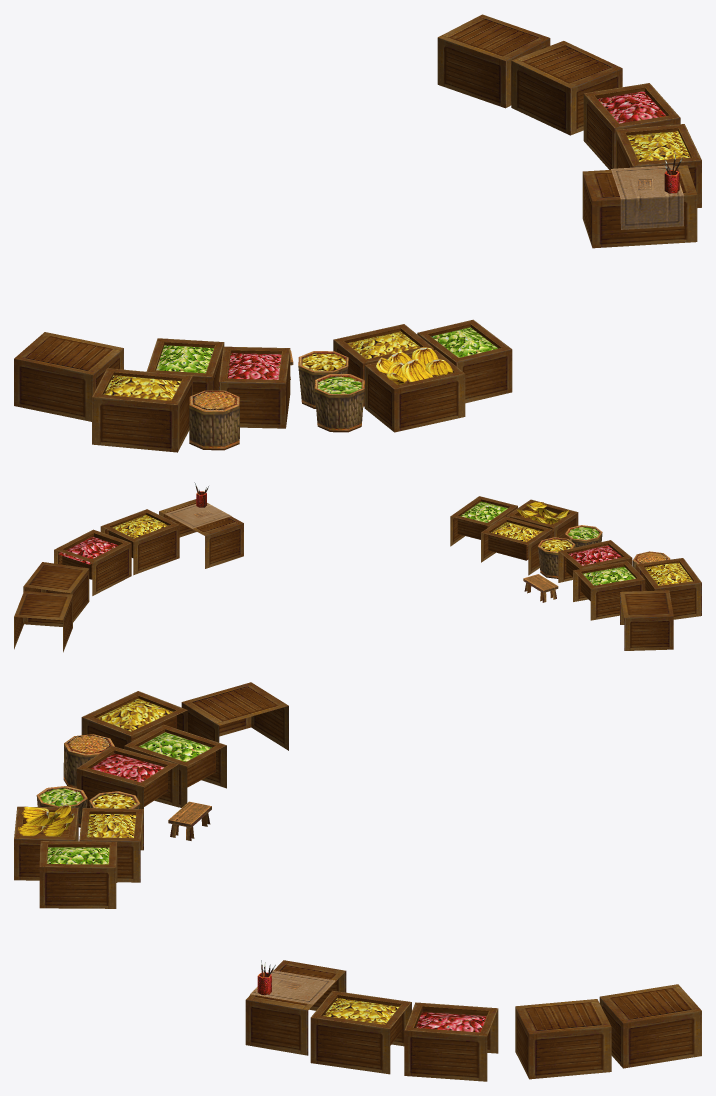
File: xsz_shuiguotan_1.FBX
The picture shows the model from 3 angles, top to bottom: view 1: azimuth 30°, elevation 25°; view 2: azimuth 150°, elevation 25°; view 3: azimuth 270°, elevation 25°; orthographic projection. The views are drawn at different scales.
Visible parts, largest first — view 1: xsz_shuiguotan_1; view 2: xsz_shuiguotan_1; view 3: xsz_shuiguotan_1.
Part boxes in pixels (x1=…): xsz_shuiguotan_1: x1=14, y1=14, x2=701, y2=452; xsz_shuiguotan_1: x1=14, y1=482, x2=701, y2=652; xsz_shuiguotan_1: x1=14, y1=682, x2=701, y2=1081.
Bounding box in the file's own units: 1259 × 1033 × 128.
